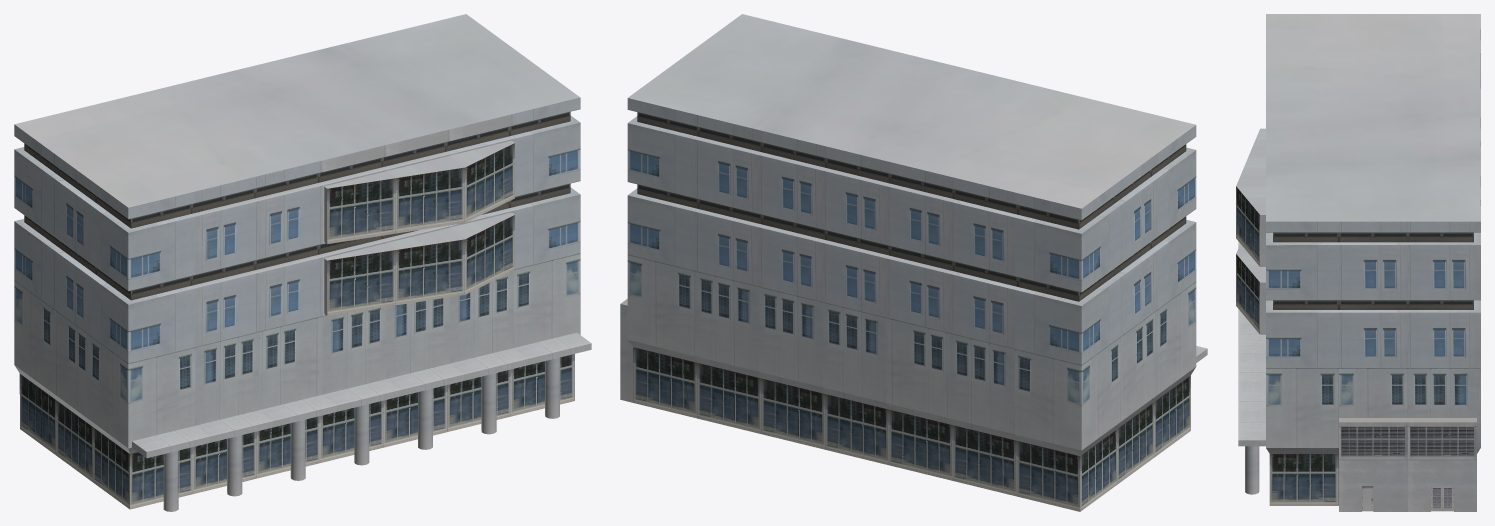
The model's file is Building_01.fbx.
3 renders of one model, left to right at view 1: azimuth 30°, elevation 25°; view 2: azimuth 150°, elevation 25°; view 3: azimuth 270°, elevation 25°, orthographic. The views are drawn at different scales.
Visible parts, largest first — view 1: Building_01; view 2: Building_01; view 3: Building_01.
Part boxes in pixels (x1,y1,x2,y2): Building_01: [14, 14, 591, 511]; Building_01: [620, 14, 1207, 511]; Building_01: [1236, 14, 1480, 511].
Size of the model in its own units: 36.27 by 22.85 by 17.71.
Materials: 1 (1 with a texture image).
